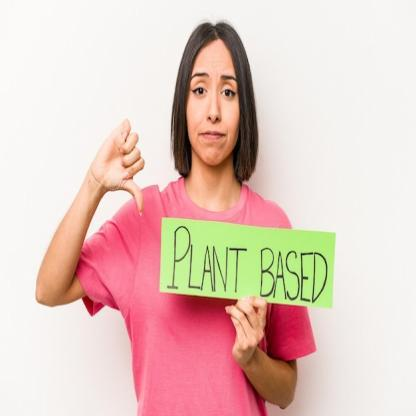thumb_down: (89, 116, 148, 220)
